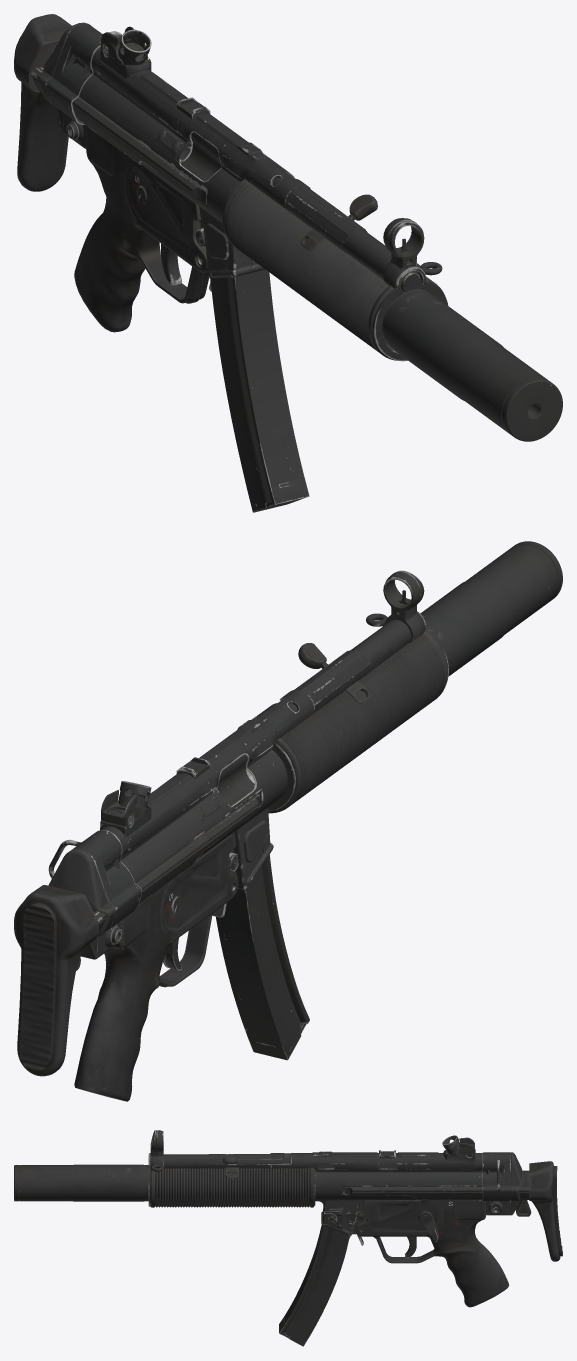
3 views of the same model, one above another, from view 1: azimuth 30°, elevation 25°; view 2: azimuth 150°, elevation 25°; view 3: azimuth 270°, elevation 25° (orthographic). The views are drawn at different scales.
Parts seen in each view (by area): view 1: MP5SD_CS2_weapon_smg_mp5sd_0; view 2: MP5SD_CS2_weapon_smg_mp5sd_0; view 3: MP5SD_CS2_weapon_smg_mp5sd_0.
Boxes of the visible parts, x1,y1,x2,y2 form: MP5SD_CS2_weapon_smg_mp5sd_0: [14, 14, 562, 512]; MP5SD_CS2_weapon_smg_mp5sd_0: [14, 541, 562, 1101]; MP5SD_CS2_weapon_smg_mp5sd_0: [14, 1130, 562, 1346].
Bounding box in the file's own units: 0.0671 × 0.3029 × 0.7135.
1 material, 1 textured.
